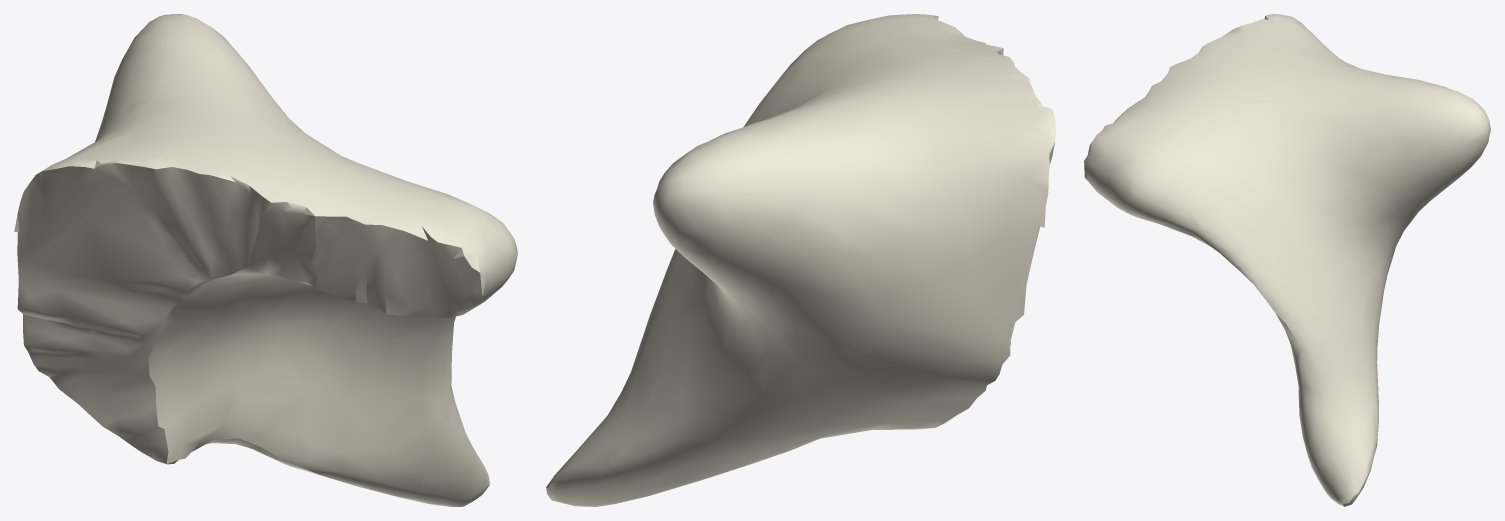
The model's file is fma54702_mm2090.glb.
The picture shows the model from 3 angles, left to right: view 1: azimuth 30°, elevation 25°; view 2: azimuth 150°, elevation 25°; view 3: azimuth 270°, elevation 25°; orthographic projection. The views are drawn at different scales.
Parts seen in each view (by area): view 1: FMA54702_MM2090; view 2: FMA54702_MM2090; view 3: FMA54702_MM2090.
Boxes of the visible parts, x1,y1,x2,y2 form: FMA54702_MM2090: (14,14,517,506); FMA54702_MM2090: (546,14,1055,506); FMA54702_MM2090: (1084,14,1490,506).
Bounding box in the file's own units: 0.00312 × 0.00292 × 0.00316.
